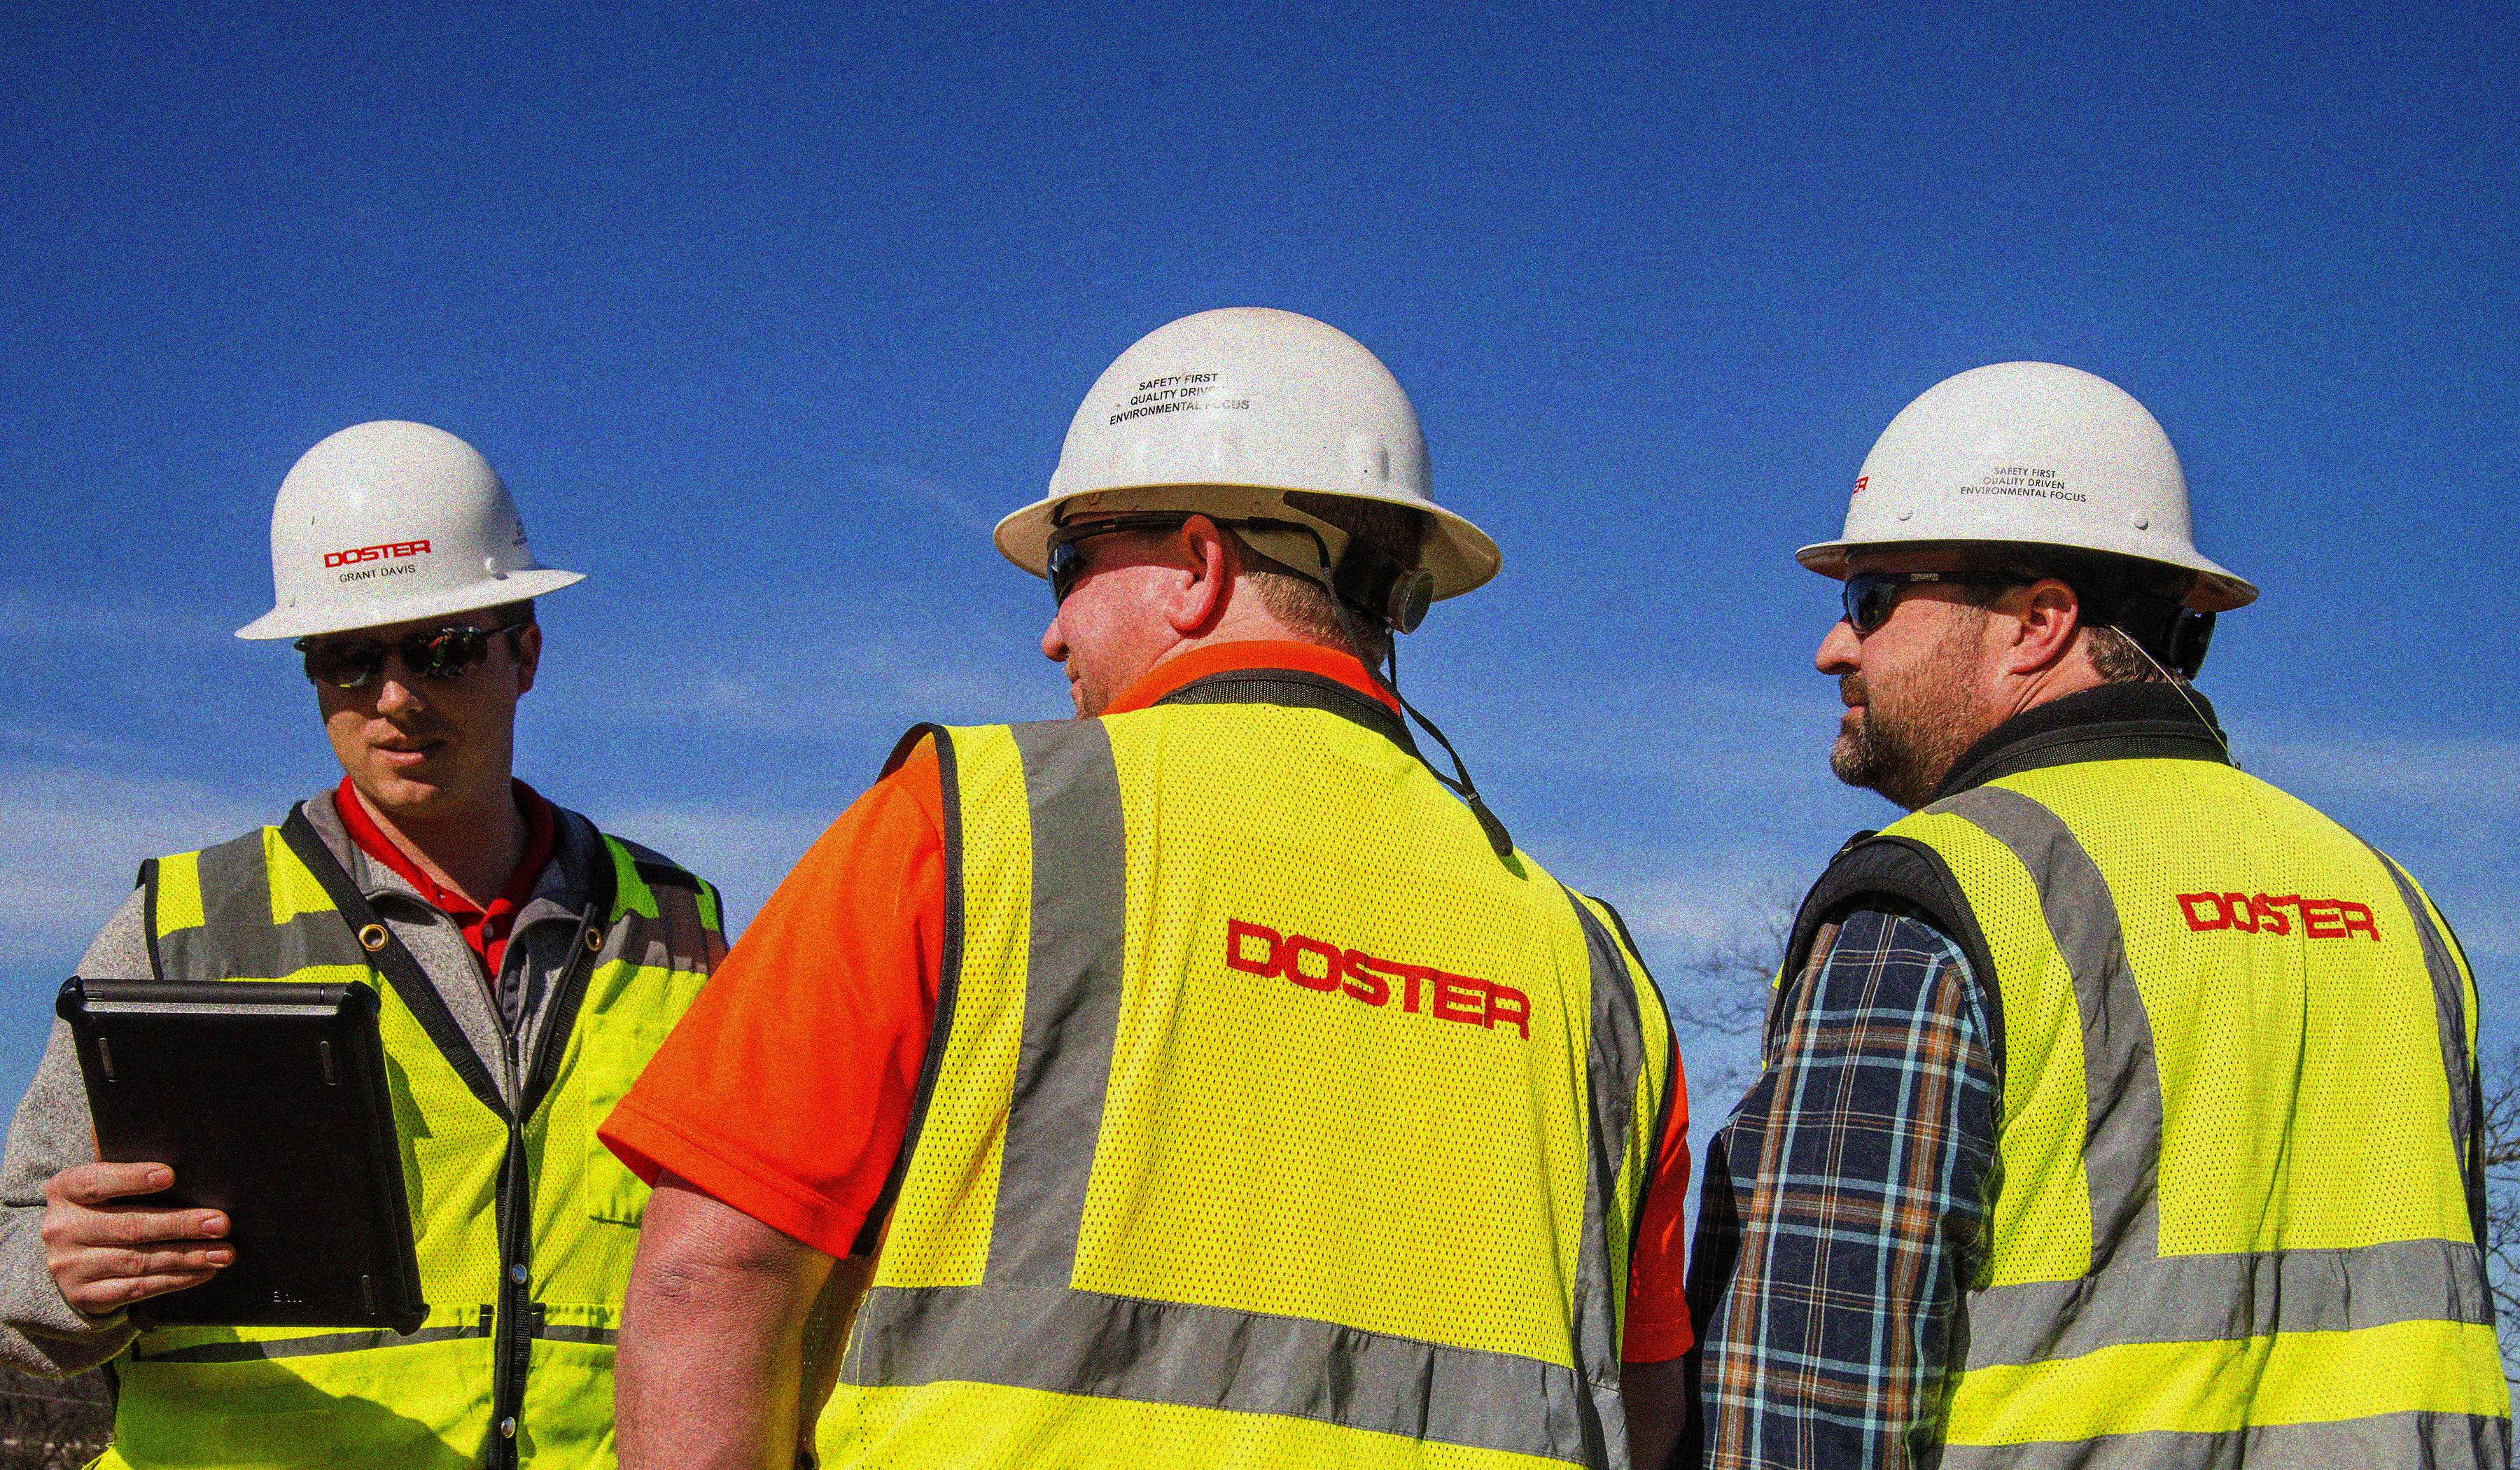helmet: (982, 294, 1512, 716), (1790, 350, 2263, 786), (231, 402, 602, 824)
